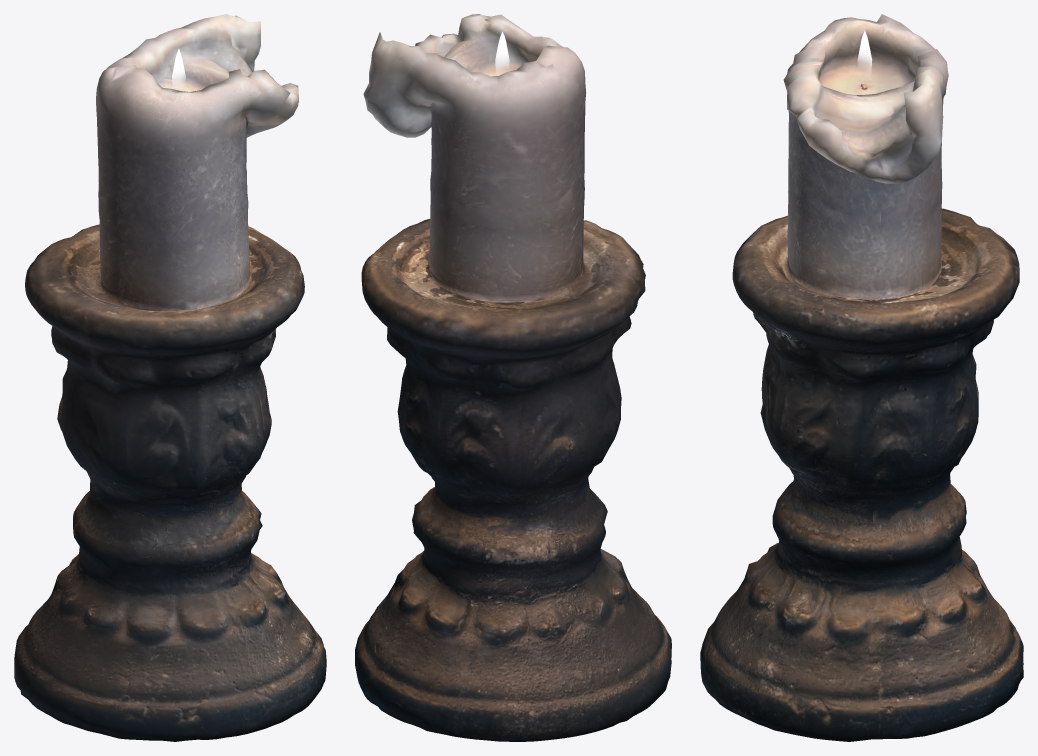
Rendered from cozy_candle.glb.
3 renders of one model, left to right at view 1: azimuth 30°, elevation 25°; view 2: azimuth 150°, elevation 25°; view 3: azimuth 270°, elevation 25°, orthographic. The views are drawn at different scales.
Parts seen in each view (by area): view 1: Candle4; view 2: Candle4; view 3: Candle4.
Part boxes in pixels (x1,y1,x2,y2): Candle4: (14,14,326,741); Candle4: (355,14,671,741); Candle4: (700,14,1023,741).
Bounding box in the file's own units: 5.71 × 12.71 × 5.7.
2 materials, 2 textured.
